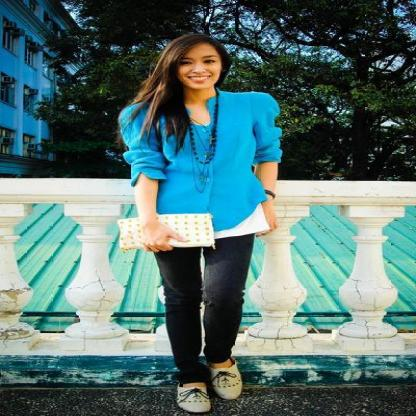bag: (118, 213, 219, 258)
pants: (154, 233, 254, 381)
shirt: (118, 92, 283, 237)
shoe: (177, 359, 241, 412)
